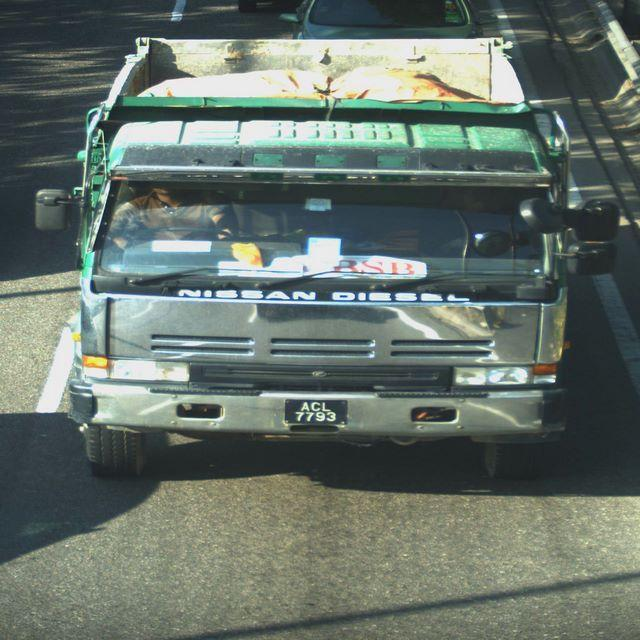License_Plate: (284, 391, 359, 432)
lorry: (32, 29, 612, 498)
